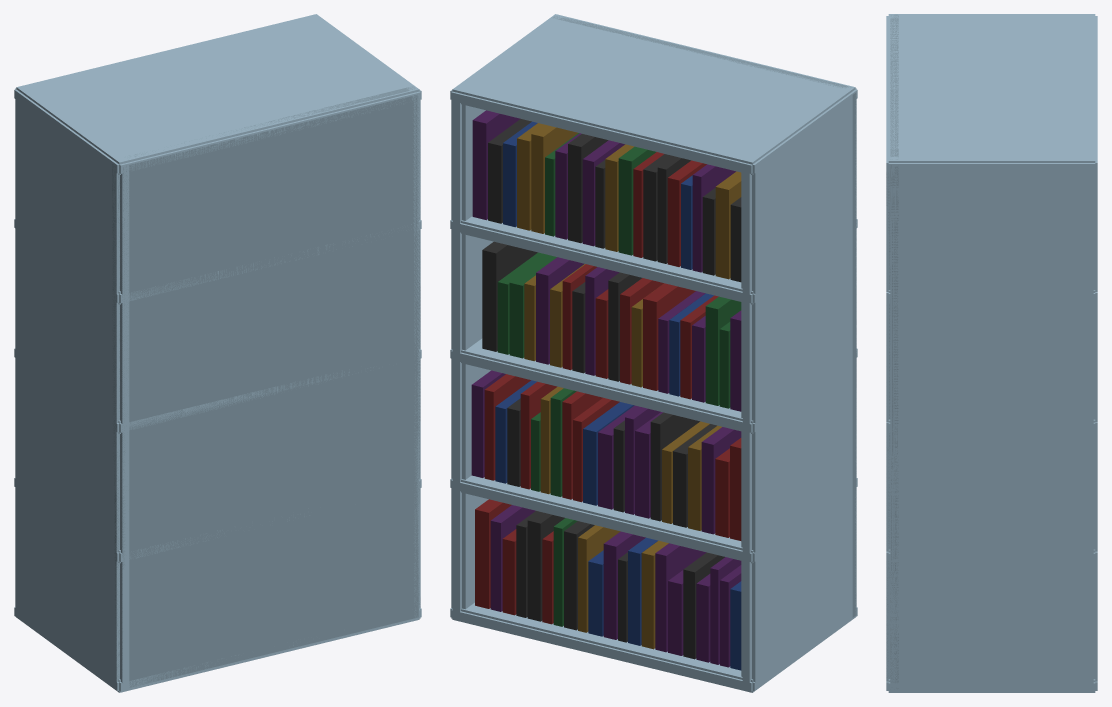
File: glass_bookcase_v0.glb
3 renders of one model, left to right at view 1: azimuth 30°, elevation 25°; view 2: azimuth 150°, elevation 25°; view 3: azimuth 270°, elevation 25°, orthographic.
Parts seen in each view (by area): view 1: glass_bookcase_v0; view 2: glass_bookcase_v0; view 3: glass_bookcase_v0.
Part boxes in pixels (left/top/right/bottom): glass_bookcase_v0: left=14, top=14, right=421, bottom=692; glass_bookcase_v0: left=450, top=14, right=857, bottom=692; glass_bookcase_v0: left=886, top=14, right=1097, bottom=692.
Bounding box in the file's own units: 1.5 × 2.5 × 0.9.
